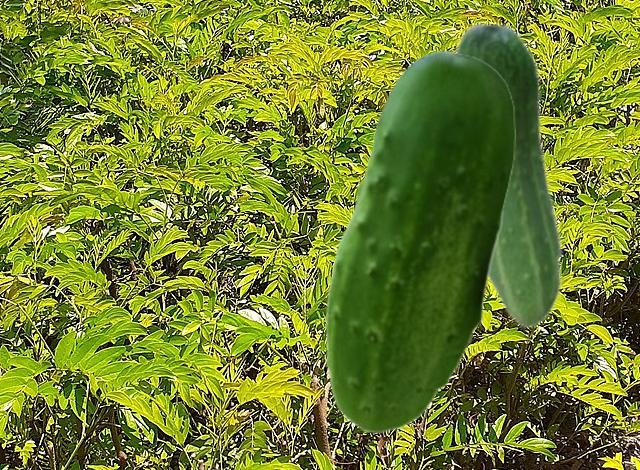cucumber: (325, 50, 514, 433), (451, 20, 563, 328)
